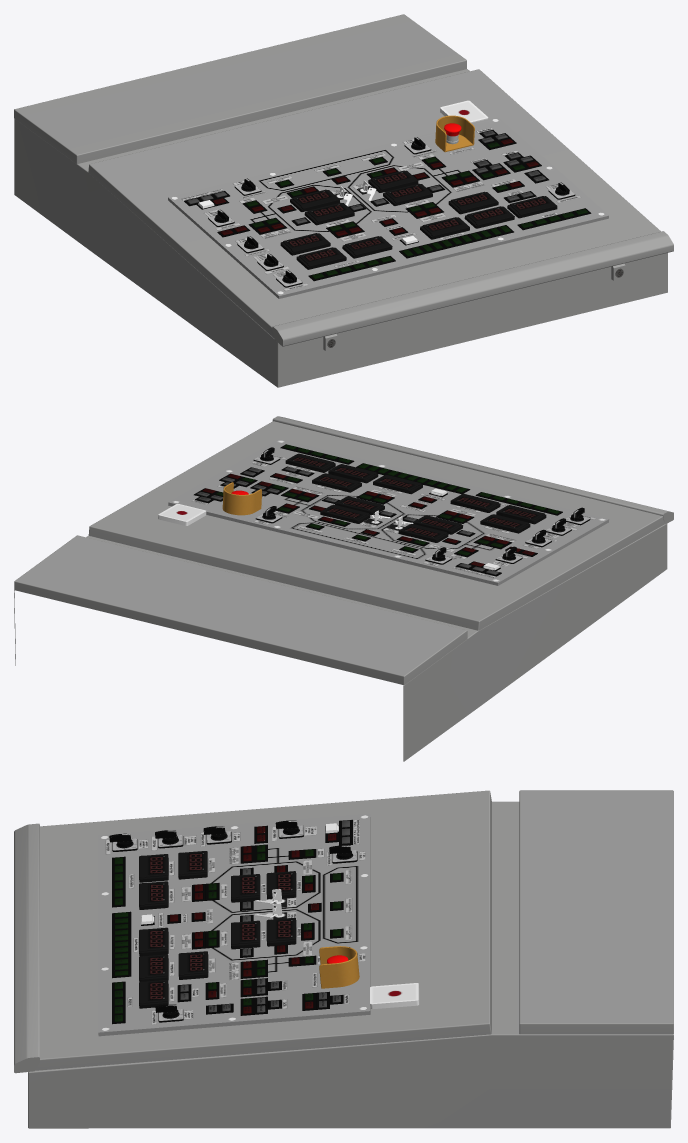
File: Console_BZU.glb
3 views of the same model, one above another, from view 1: azimuth 30°, elevation 25°; view 2: azimuth 150°, elevation 25°; view 3: azimuth 270°, elevation 25° (orthographic). The views are drawn at different scales.
Parts seen in each view (by area): view 1: Obj_Object001, Rectangle001_primitive1, Plane001, Line001, Rectangle120 (×10), Box001, ZBZ1605, Box003; view 2: Obj_Object001, Rectangle001_primitive1, Plane001, Line001, Box001, ZBZ1605, Box003; view 3: Obj_Object001, Rectangle001_primitive1, Plane001, Rectangle120 (×11), Line001, Box001, ZBZ1605, Box003.
Part boxes in pixels (left/top/right/bottom): Obj_Object001: left=14, top=14, right=660, bottom=337; Rectangle001_primitive1: left=14, top=69, right=667, bottom=387; Plane001: left=168, top=117, right=608, bottom=298; Line001: left=272, top=231, right=673, bottom=346; Rectangle120 (×10): left=280, top=170, right=557, bottom=269; Box001: left=181, top=127, right=581, bottom=290; ZBZ1605: left=435, top=115, right=474, bottom=152; Box003: left=440, top=100, right=488, bottom=123; Obj_Object001: left=14, top=421, right=664, bottom=684; Rectangle001_primitive1: left=14, top=524, right=667, bottom=761; Plane001: left=168, top=438, right=609, bottom=585; Line001: left=272, top=416, right=673, bottom=524; Box001: left=192, top=452, right=596, bottom=578; ZBZ1605: left=222, top=482, right=261, bottom=515; Box003: left=158, top=503, right=206, bottom=525; Obj_Object001: left=35, top=790, right=673, bottom=1070; Rectangle001_primitive1: left=28, top=801, right=673, bottom=1128; Plane001: left=98, top=814, right=370, bottom=1036; Rectangle120 (×11): left=139, top=851, right=296, bottom=1008; Line001: left=14, top=823, right=39, bottom=1073; Box001: left=105, top=819, right=365, bottom=1024; ZBZ1605: left=319, top=946, right=359, bottom=988; Box003: left=370, top=983, right=419, bottom=1009.
Size of the model in its own units: 1 by 0.2437 by 1.2.
28 materials, 24 textured.
